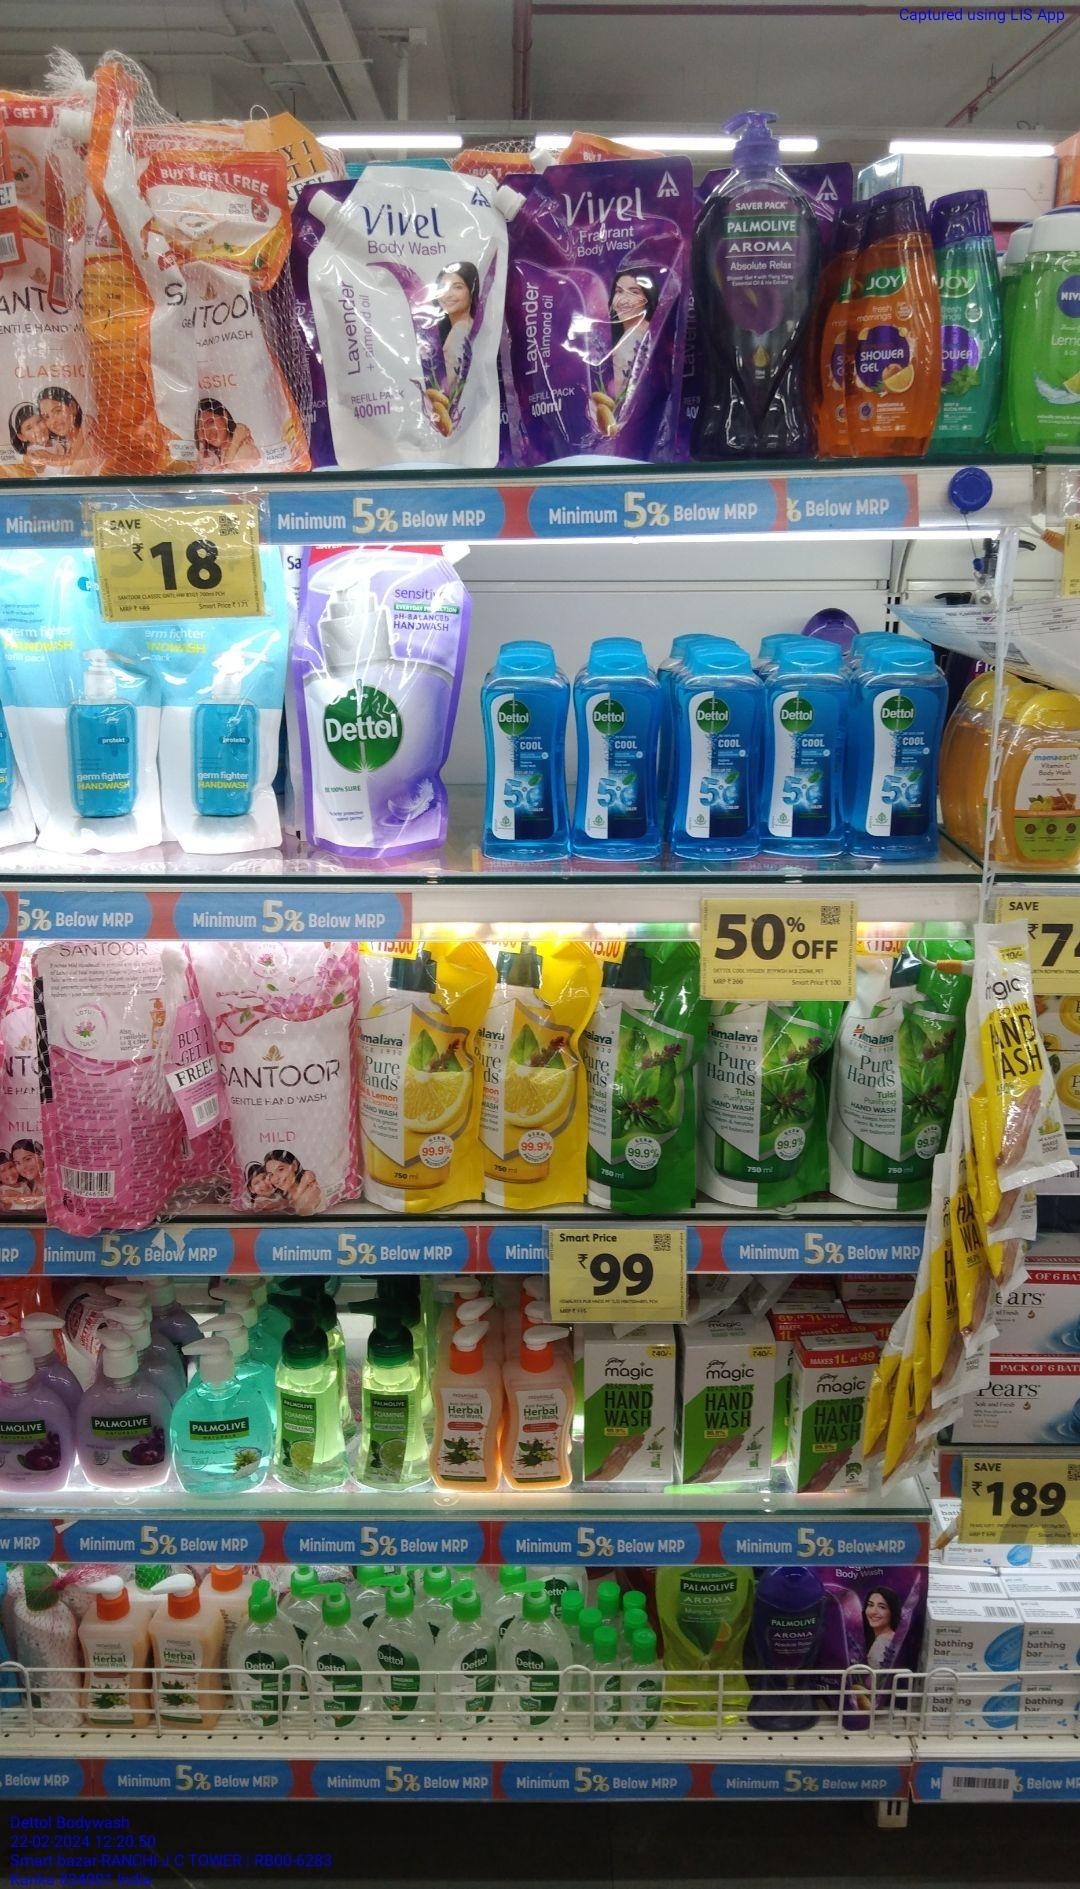Dettol_Bodywash_Cool: (671, 636, 763, 856), (478, 644, 567, 864), (576, 641, 662, 859), (768, 636, 849, 858), (858, 631, 933, 856)
Joy_Shower_Gel_Mandarin_and_Lemongrass_250ML: (842, 186, 941, 453)
Palmolive_Aroma_Relax_250ML: (753, 1559, 822, 1728)
